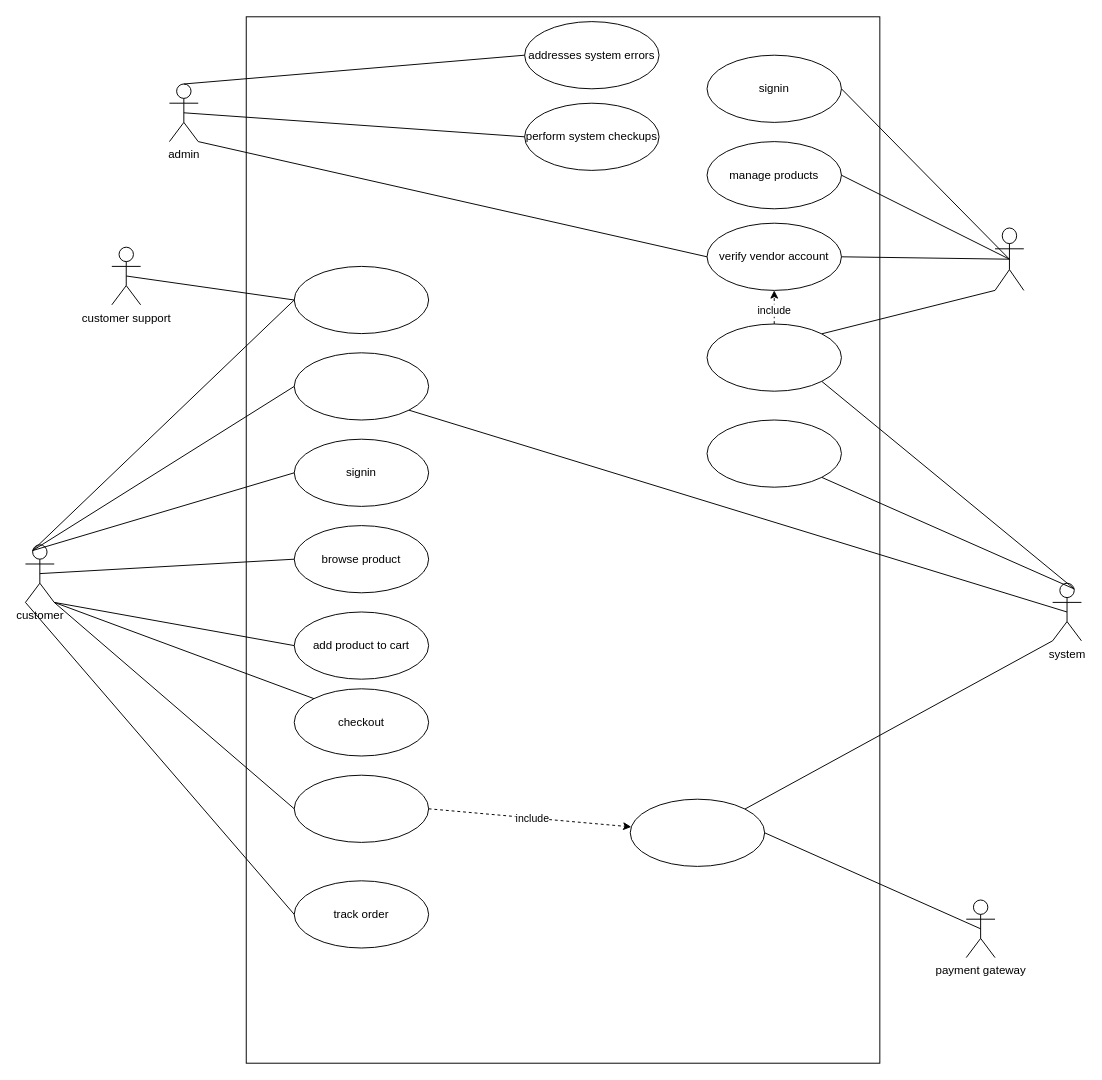
The diagram is 1102 pixels wide and 1080 high, and some of its shapes have lost their labels. The shapes that lost their labels are listed below. From the top down, each one's centre as x and y in pixels, then its label:
At [1009,258]: "seller".
At [361,299]: "provide customer service".
At [773,357]: "register vendor account".
At [361,386]: "register customer account".
At [773,453]: "generate sales report".
At [361,808]: "make payment".
At [697,832]: "integrate payment gateway".
